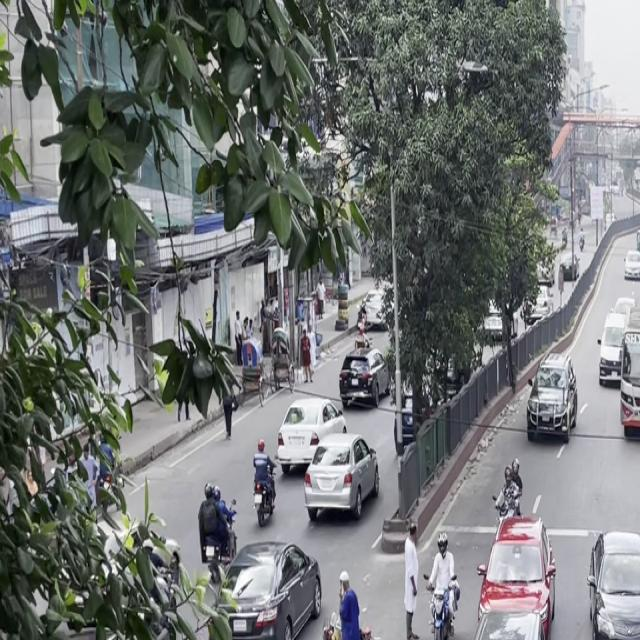bicycle: (309, 575, 395, 640)
car: (201, 534, 328, 640), (300, 429, 384, 532), (433, 580, 567, 640), (581, 516, 640, 640), (273, 393, 339, 479), (522, 358, 581, 452), (335, 342, 396, 410), (617, 342, 640, 450), (596, 318, 630, 390)
motorbike: (190, 482, 245, 594), (425, 532, 463, 640), (249, 441, 282, 527), (495, 455, 527, 532)
